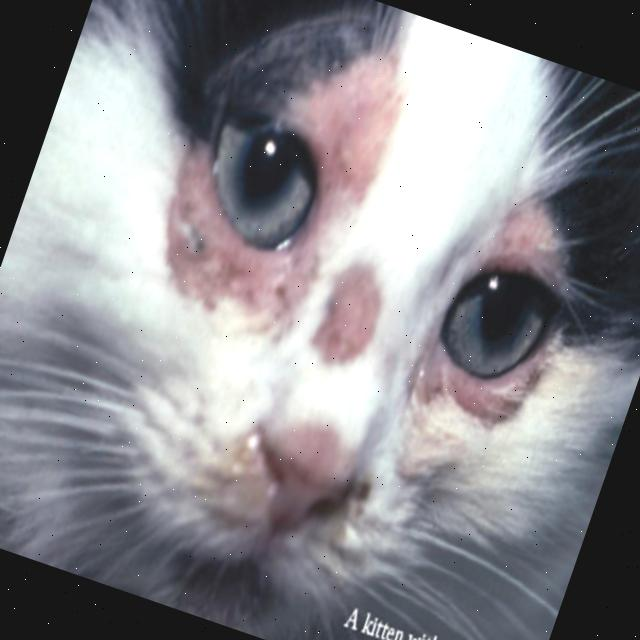cat-lump-and-bump: (300, 242, 400, 385)
